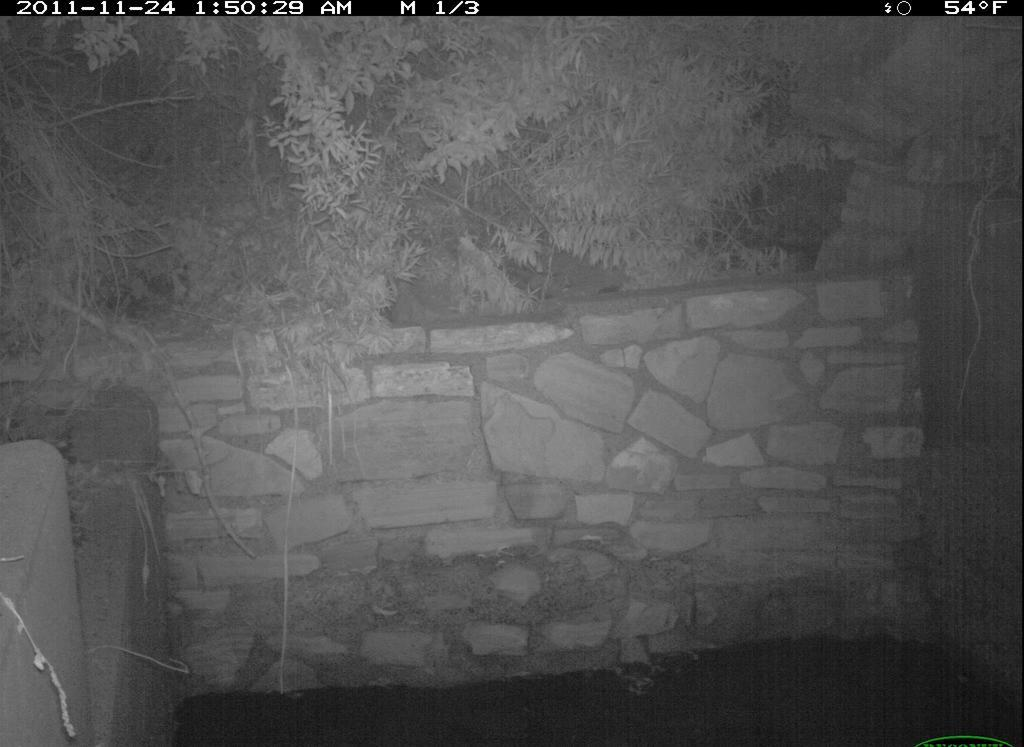rodent: (588, 498, 658, 580)
